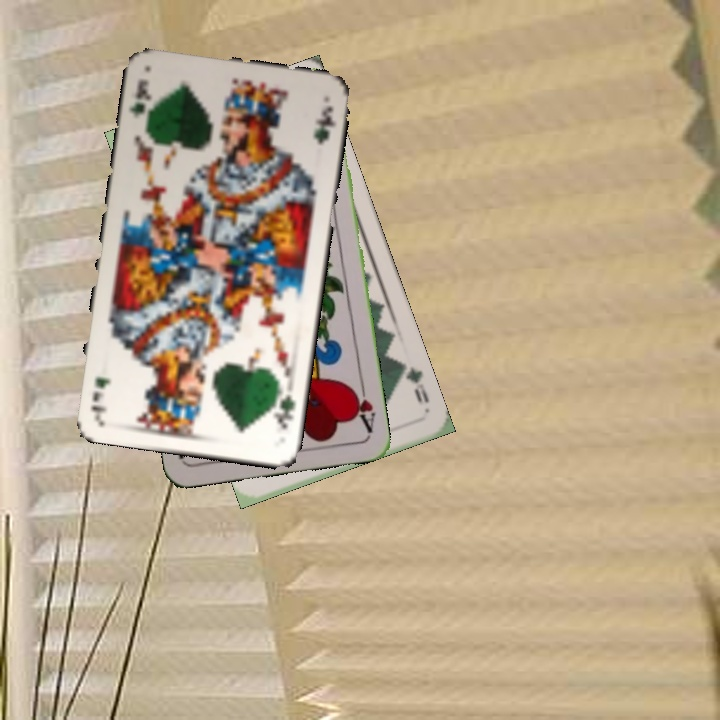G9: (397, 359, 432, 408)
GK: (269, 384, 298, 431), (125, 75, 154, 121)
HA: (347, 376, 378, 435)
